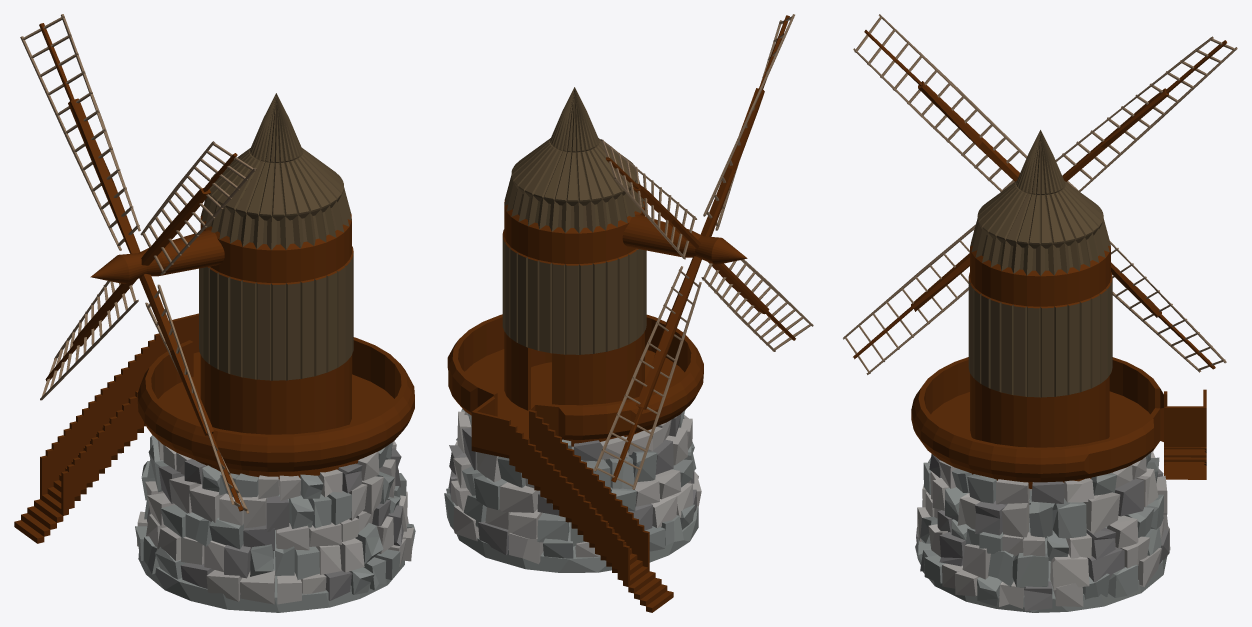
File: Windmill.fbx
3 views of the same model, side by side, from view 1: azimuth 30°, elevation 25°; view 2: azimuth 150°, elevation 25°; view 3: azimuth 270°, elevation 25° (orthographic). The views are drawn at different scales.
Visible parts, largest first — view 1: Windmill; view 2: Windmill; view 3: Windmill.
Boxes of the visible parts, <box> form: Windmill: <box>14,14,415,612</box>; Windmill: <box>444,14,813,612</box>; Windmill: <box>843,14,1237,612</box>.
Bounding box in the file's own units: 1306 × 2095 × 1565.
